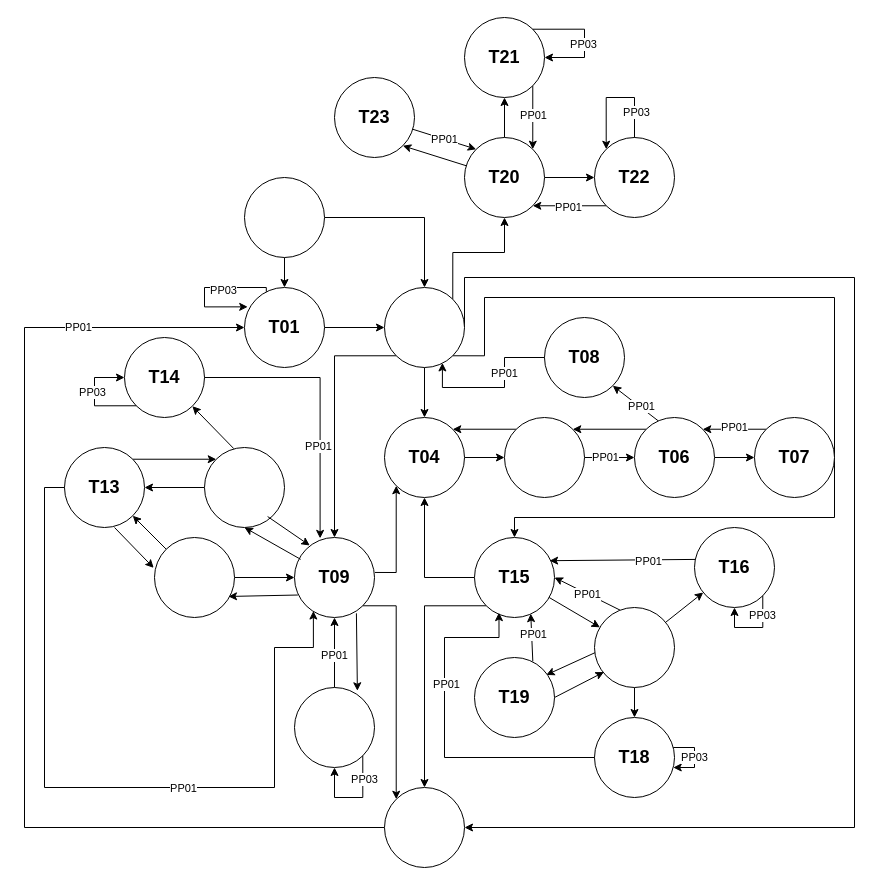
This 880x885 diagram has some shape labels left out. The shapes that lost their labels are listed below. From the top down, each one's centre as x and y in pixels, then its label:
At (x=284, y=217): "T02".
At (x=424, y=327): "T03".
At (x=544, y=457): "T05".
At (x=244, y=487): "T12".
At (x=194, y=577): "T11".
At (x=634, y=647): "T17".
At (x=334, y=727): "T10".
At (x=424, y=827): "T24".
